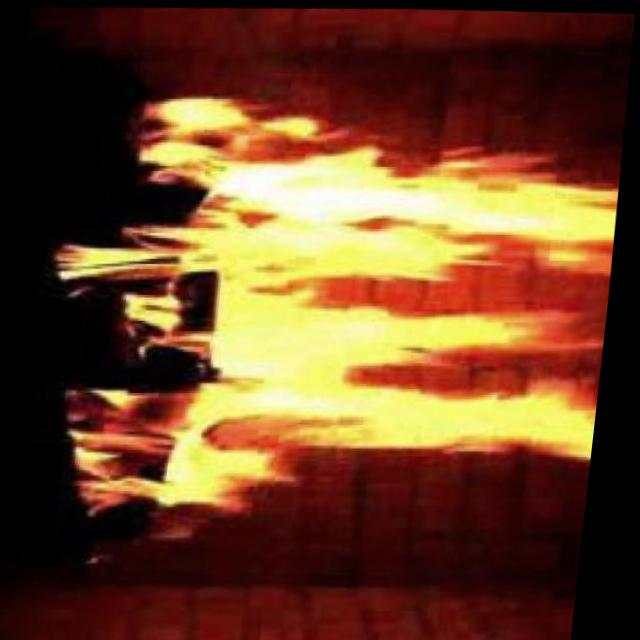Fire: (120, 99, 592, 462)
